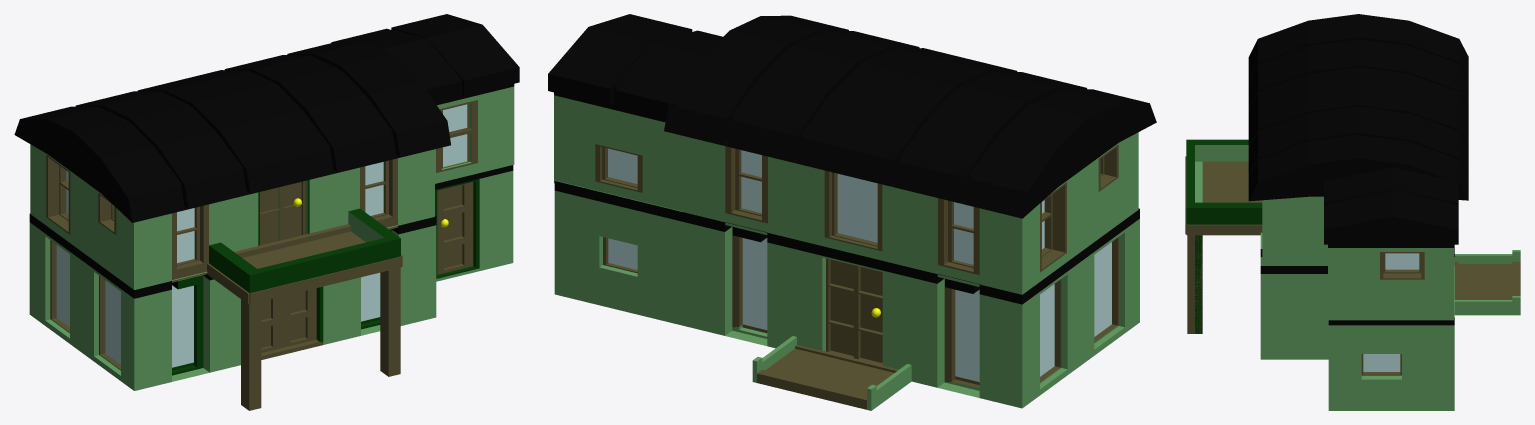
The model's file is greenvilla.fbx.
3 renders of one model, left to right at view 1: azimuth 30°, elevation 25°; view 2: azimuth 150°, elevation 25°; view 3: azimuth 270°, elevation 25°, orthographic. The views are drawn at different scales.
Parts seen in each view (by area): view 1: Cube.003, Cube.001, Cube, Cube.002; view 2: Cube, Cube.001, Cube.003, Cube.002, Cube.004; view 3: Cube.001, Cube.003, Cube, Cube.002, Cube.004.
Boxes of the visible parts, x1,y1,x2,y2 form: Cube.003: [30, 84, 514, 410]; Cube.001: [14, 41, 450, 222]; Cube: [29, 165, 513, 390]; Cube.002: [331, 14, 519, 102]; Cube: [554, 180, 1139, 408]; Cube.001: [664, 15, 1156, 218]; Cube.003: [554, 92, 1138, 294]; Cube.002: [548, 14, 722, 119]; Cube.004: [752, 336, 911, 410]; Cube.001: [1248, 14, 1468, 201]; Cube.003: [1185, 139, 1453, 333]; Cube: [1260, 232, 1454, 410]; Cube.002: [1324, 167, 1458, 244]; Cube.004: [1454, 250, 1520, 315].
Bounding box in the file's own units: 8.1 × 4.18 × 5.93.
